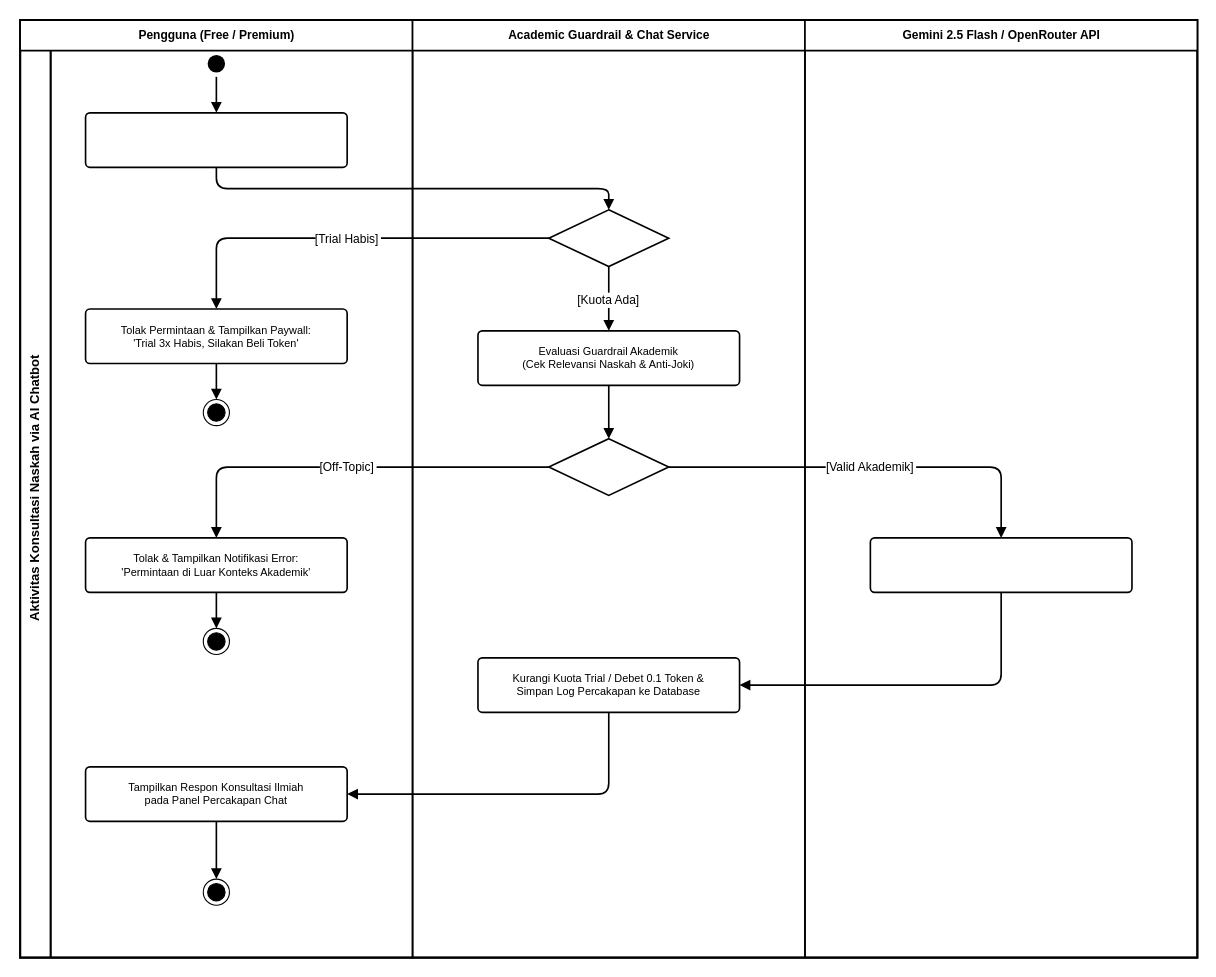
Some shapes in this 1216 by 977 pixel diagram are drawn without their labels. Each missing label, with the centre of its shape:
Buka Tab 'AI Asisten' di Panel Kanan dan Masukkan Pertanyaan / Perintah: point 215,140
Kirim Konteks Kalimat Plagiat ke Gemini 2.5 Flash / OpenRouter Fallback: point 1000,565
Lolos Guardrail Akademik?: point 608,466
Status Kuota Pengguna?: point 608,238
